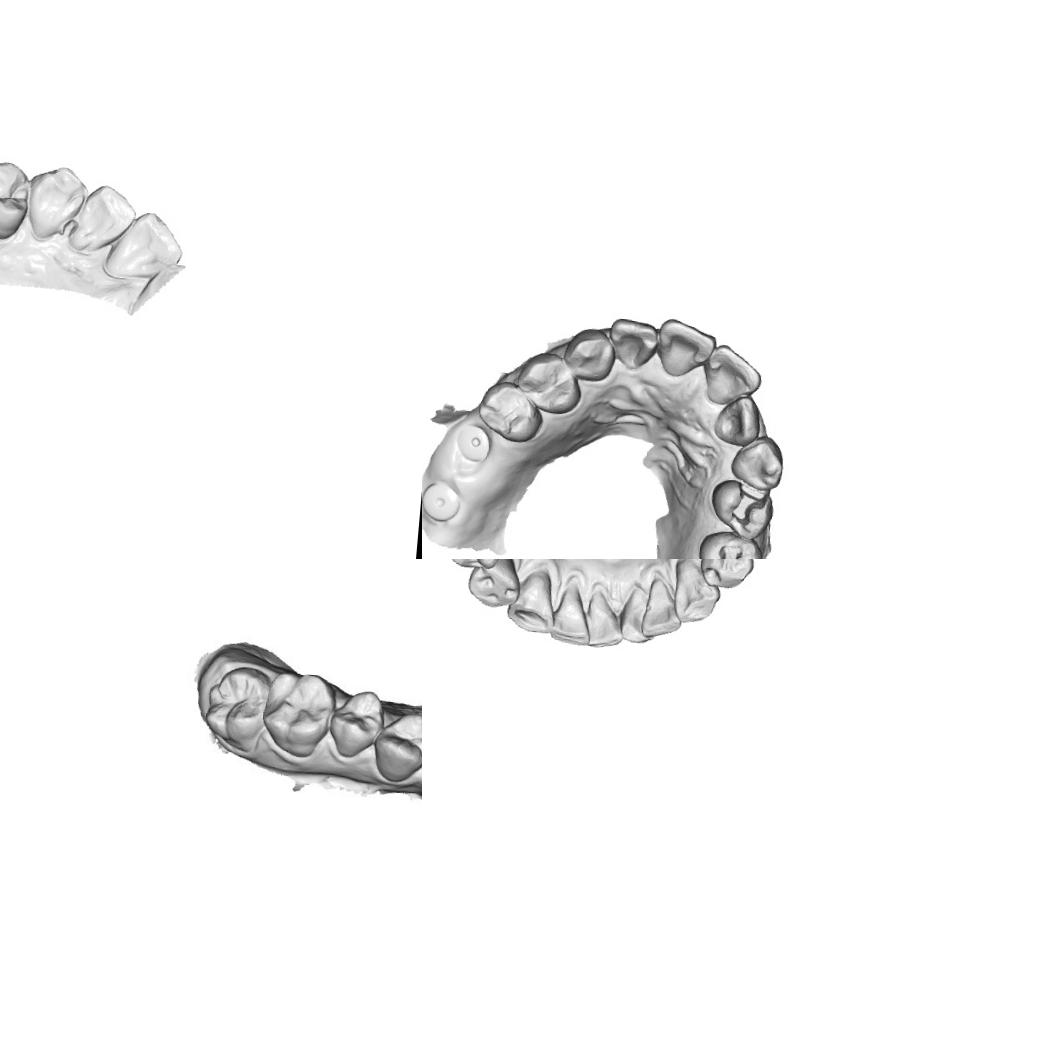canine: (24, 162, 86, 243), (503, 565, 560, 636), (665, 559, 724, 627), (726, 431, 786, 492), (560, 324, 618, 384)
implant: (422, 477, 462, 522), (452, 421, 492, 464)
incisor: (98, 204, 187, 286), (70, 180, 141, 255), (654, 316, 719, 382), (701, 341, 764, 409), (546, 579, 596, 648), (638, 574, 686, 642), (605, 315, 659, 372), (582, 588, 627, 654), (711, 393, 763, 449), (616, 584, 660, 648)
inlay: (722, 480, 769, 530), (711, 541, 749, 559)
molar: (259, 665, 336, 755), (198, 660, 272, 752)
premolar: (514, 349, 585, 416), (474, 378, 545, 444), (324, 688, 380, 756), (374, 708, 422, 785), (464, 559, 524, 611), (0, 155, 32, 243), (699, 559, 754, 593)
